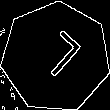L_SW: (27, 28, 84, 86)
